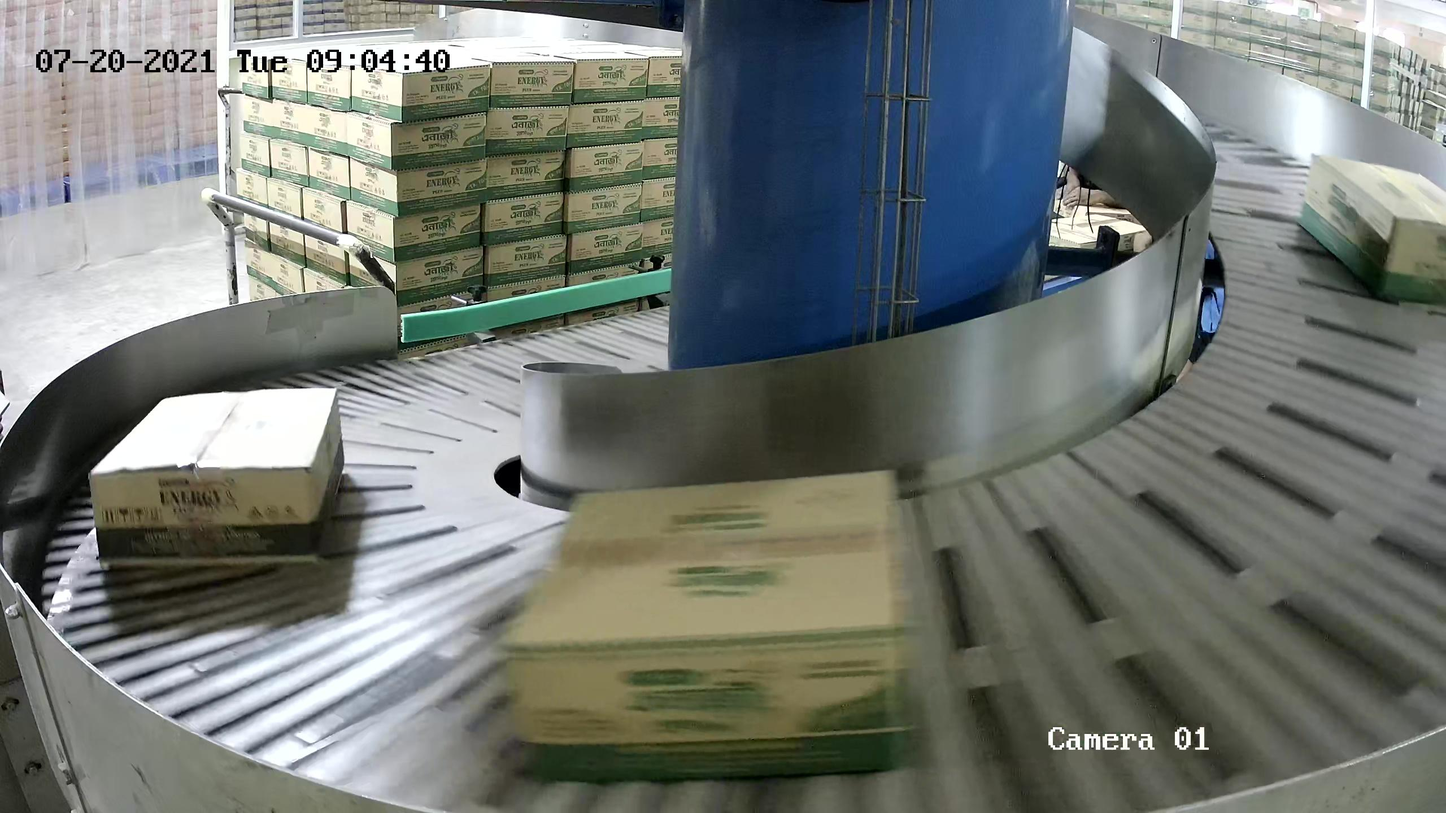Box: (497, 462, 930, 784), (87, 385, 348, 570), (1295, 150, 1446, 302)
